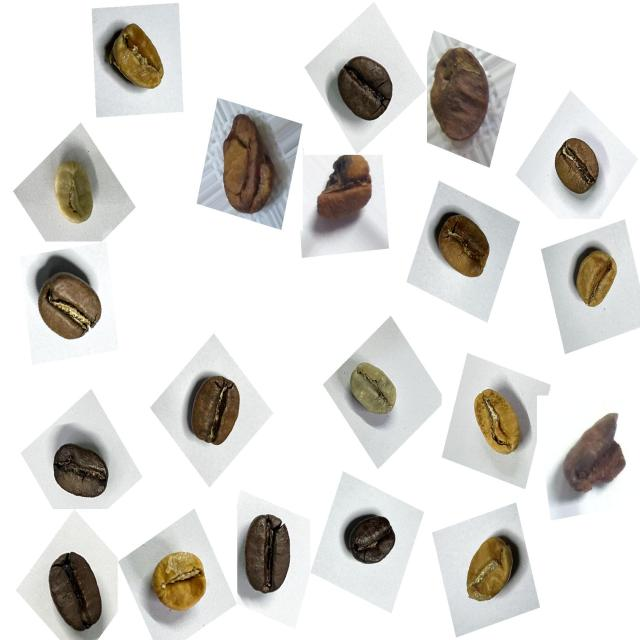bad: (206, 103, 290, 224), (422, 37, 499, 153), (555, 404, 634, 505), (308, 148, 382, 242)
dark: (38, 543, 114, 639), (234, 504, 304, 607), (330, 41, 405, 132), (45, 434, 118, 512), (336, 503, 403, 582)
green: (42, 150, 106, 239), (339, 352, 407, 430)
light: (98, 14, 177, 108), (143, 542, 219, 629), (460, 378, 532, 468), (455, 525, 525, 617), (562, 238, 626, 321)
medium: (28, 256, 115, 354), (178, 367, 254, 458), (426, 204, 501, 291), (546, 128, 610, 204)
